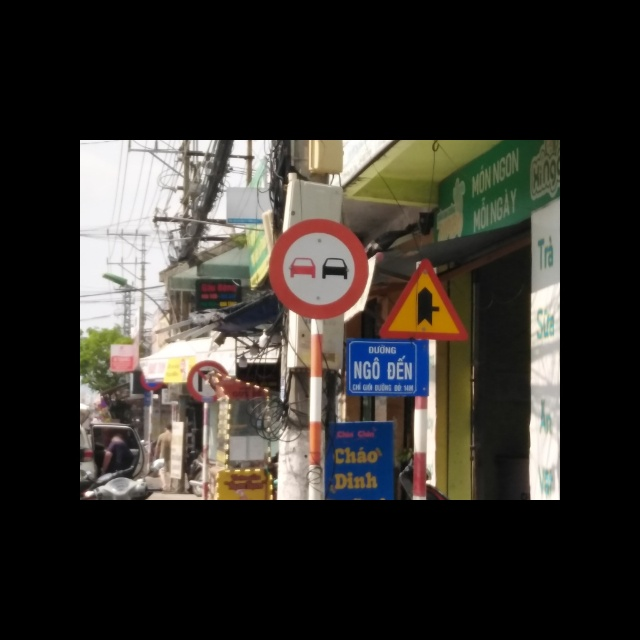Cấm vượt: (267, 217, 371, 321)
Giao nhau với đường không ưu tiên: (378, 255, 470, 341)
